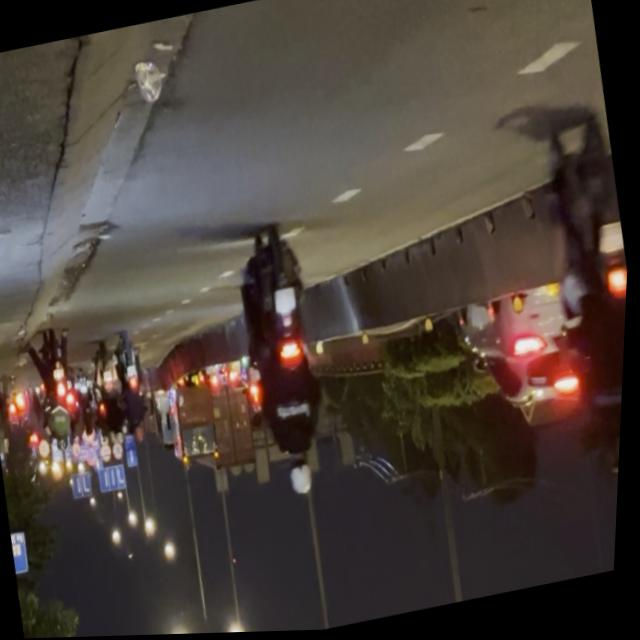helmet: (289, 455, 321, 499), (605, 414, 625, 479)
licenseplate: (518, 114, 635, 492), (220, 222, 349, 508)
nohelmet: (597, 225, 627, 258), (275, 288, 301, 317)
